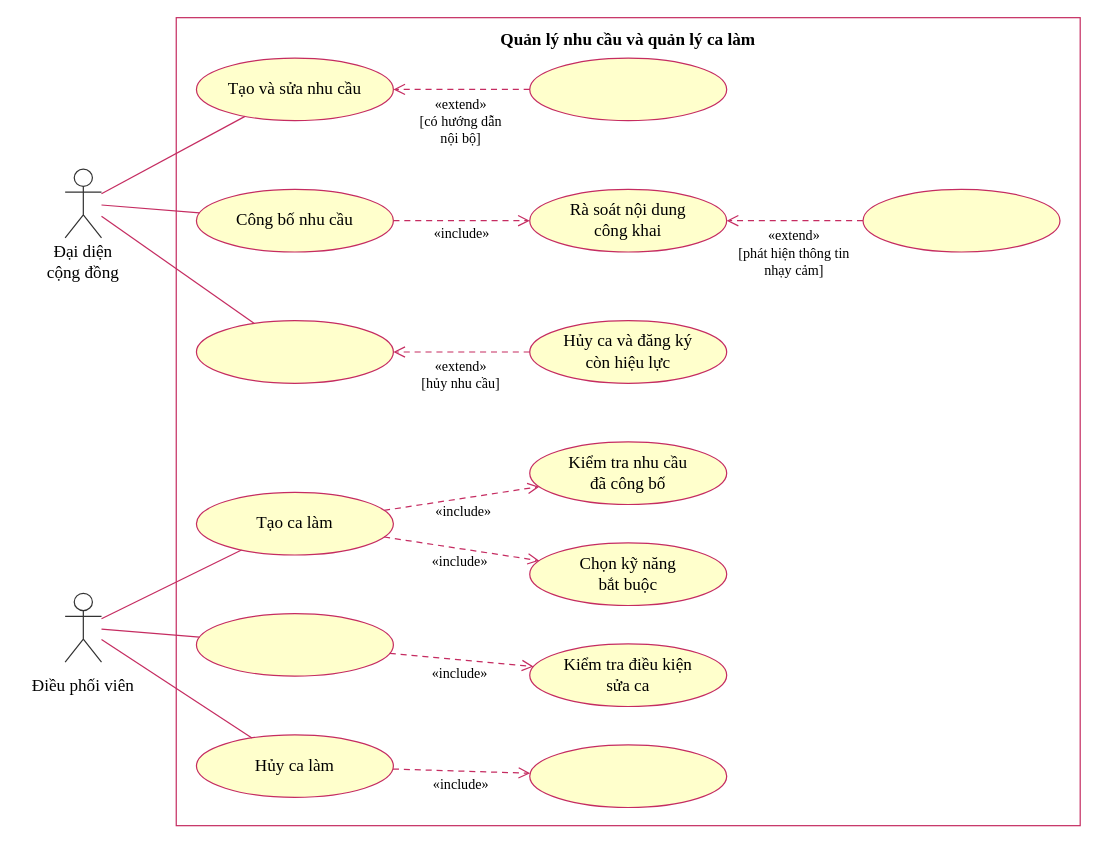
Some shapes in this 1098 by 844 pixel diagram are drawn without their labels. Here are the shapes that lost their labels. From the top down, the centre of each, then its label:
At [628,89]: "Nhập hướng dẫn điều phối riêng".
At [961,220]: "Sửa nội dung và rà soát lại".
At [294,351]: "Đóng hoặc hủy nhu cầu".
At [294,644]: "Sửa ca làm".
At [628,776]: "Hủy đăng ký còn hiệu lực".
